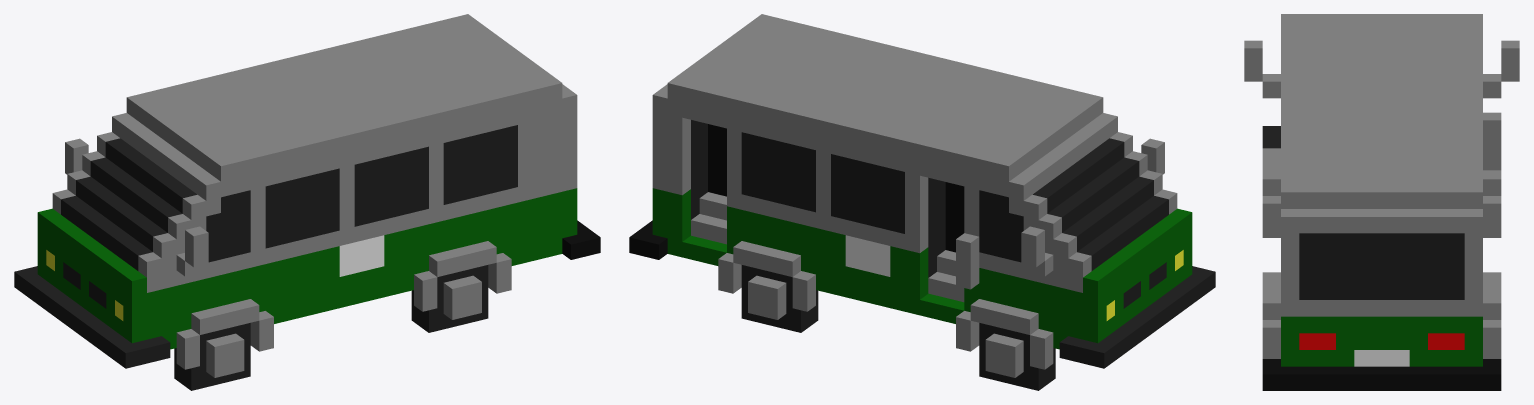
File: microBus3.fbx
3 renders of one model, left to right at view 1: azimuth 30°, elevation 25°; view 2: azimuth 150°, elevation 25°; view 3: azimuth 270°, elevation 25°, orthographic. The views are drawn at different scales.
Parts seen in each view (by area): view 1: Cubo.2308; view 2: Cubo.2308; view 3: Cubo.2308.
Part boxes in pixels (x1,y1,x2,y2): Cubo.2308: [14, 14, 600, 390]; Cubo.2308: [629, 14, 1215, 390]; Cubo.2308: [1244, 14, 1519, 390].
Bounding box in the file's own units: 1500 × 1400 × 3200.
